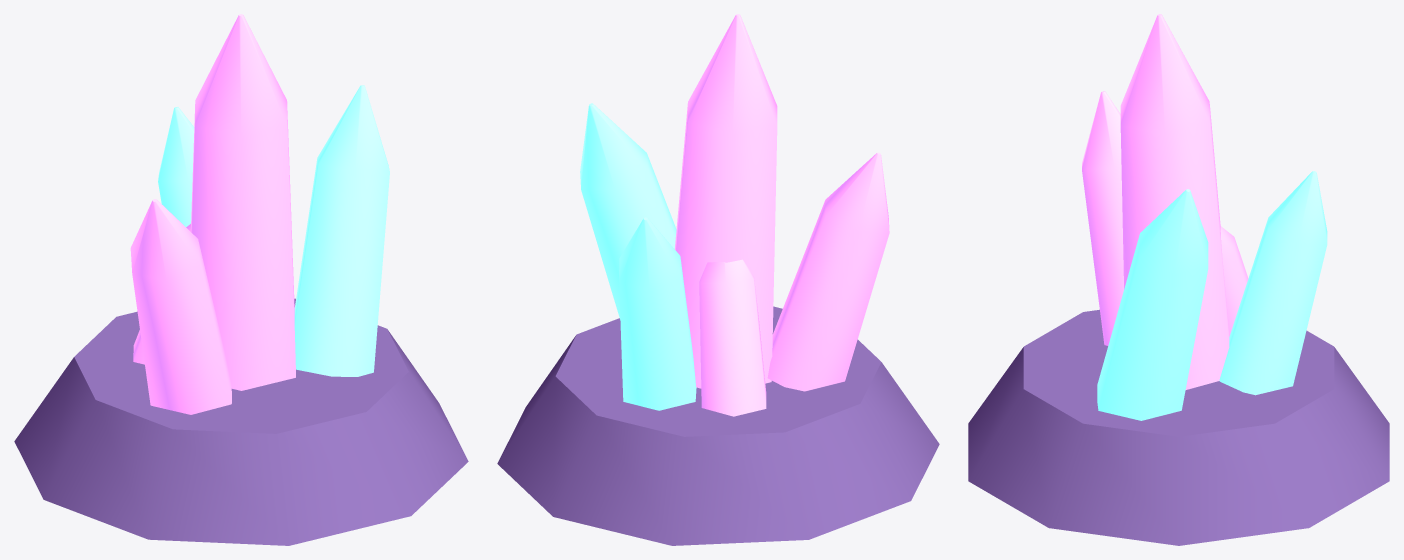
File: prop_crystal_cluster.glb
3 views of the same model, side by side, from view 1: azimuth 30°, elevation 25°; view 2: azimuth 150°, elevation 25°; view 3: azimuth 270°, elevation 25° (orthographic). The views are drawn at different scales.
Parts seen in each view (by area): view 1: PropCrystalCluster; view 2: PropCrystalCluster; view 3: PropCrystalCluster.
Boxes of the visible parts, x1=… form: PropCrystalCluster: x1=14, y1=14, x2=468, y2=545; PropCrystalCluster: x1=497, y1=14, x2=939, y2=545; PropCrystalCluster: x1=968, y1=14, x2=1389, y2=545.
Bounding box in the file's own units: 0.76 × 0.8191 × 0.7228.
